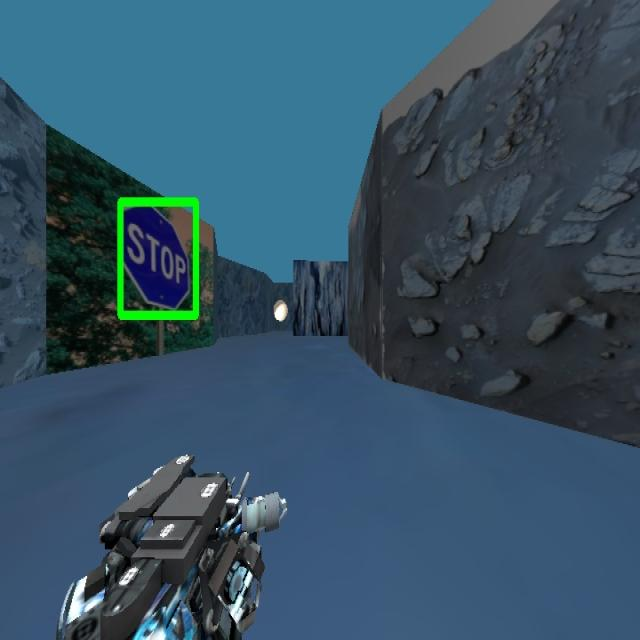Circle: (273, 299, 288, 321)
Stop_Sign: (116, 196, 200, 322)
